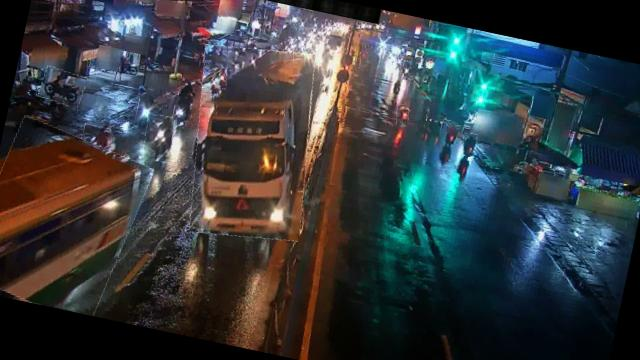Bike: (38, 66, 88, 107), (140, 112, 178, 163), (79, 124, 122, 158), (134, 93, 156, 131), (172, 89, 196, 123), (460, 132, 479, 158), (439, 119, 458, 144), (212, 66, 230, 90), (394, 104, 411, 128)
Bus: (0, 117, 150, 320)
Truck: (174, 35, 332, 249)
